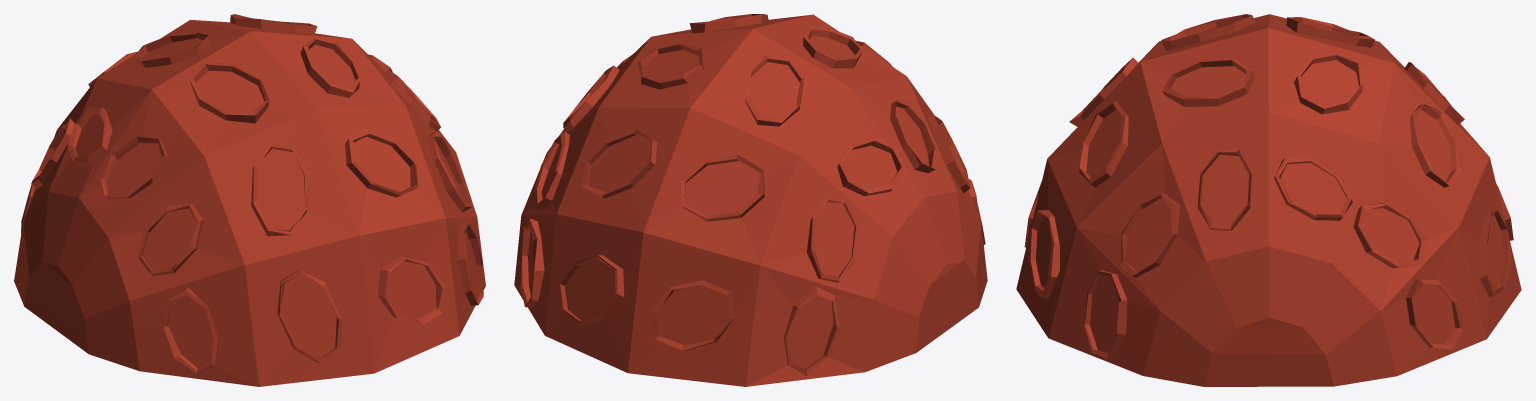
File: SM_coral_07.glb
3 renders of one model, left to right at view 1: azimuth 30°, elevation 25°; view 2: azimuth 150°, elevation 25°; view 3: azimuth 270°, elevation 25°, orthographic. The views are drawn at different scales.
Parts seen in each view (by area): view 1: SM_coral_07; view 2: SM_coral_07; view 3: SM_coral_07.
Boxes of the visible parts, bbox=[...] form: SM_coral_07: bbox=[14, 14, 485, 386]; SM_coral_07: bbox=[514, 14, 987, 386]; SM_coral_07: bbox=[1016, 14, 1521, 386].
Size of the model in its own units: 0.3724 by 0.2315 by 0.4048.
Materials: 1 (1 with a texture image).
